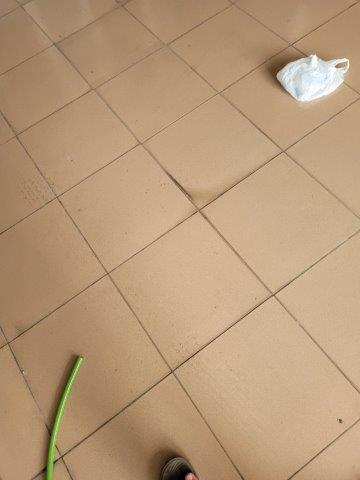plastik: (274, 56, 352, 102)
